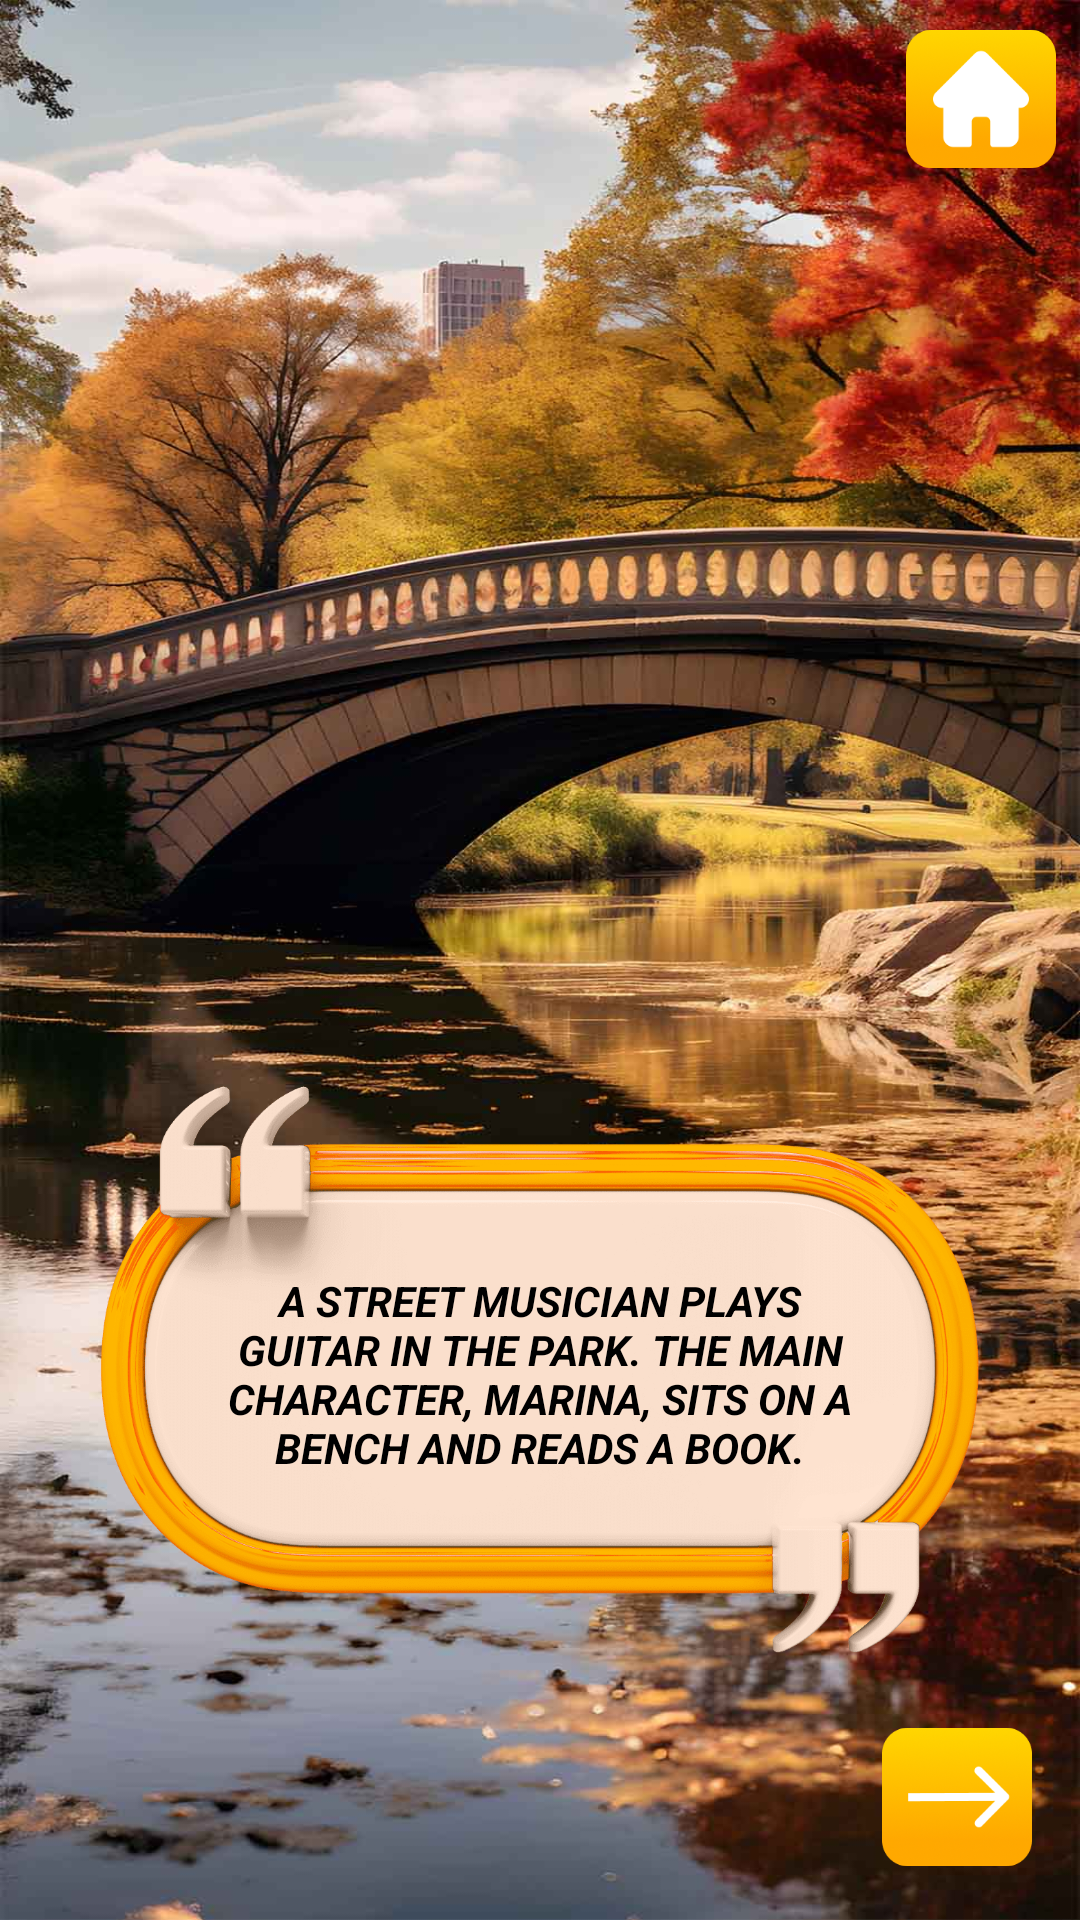

Named icons in this screenshot (1080px x 1920px) and their centers, (x,y):
home: (981,99)
next: (957,1794)
